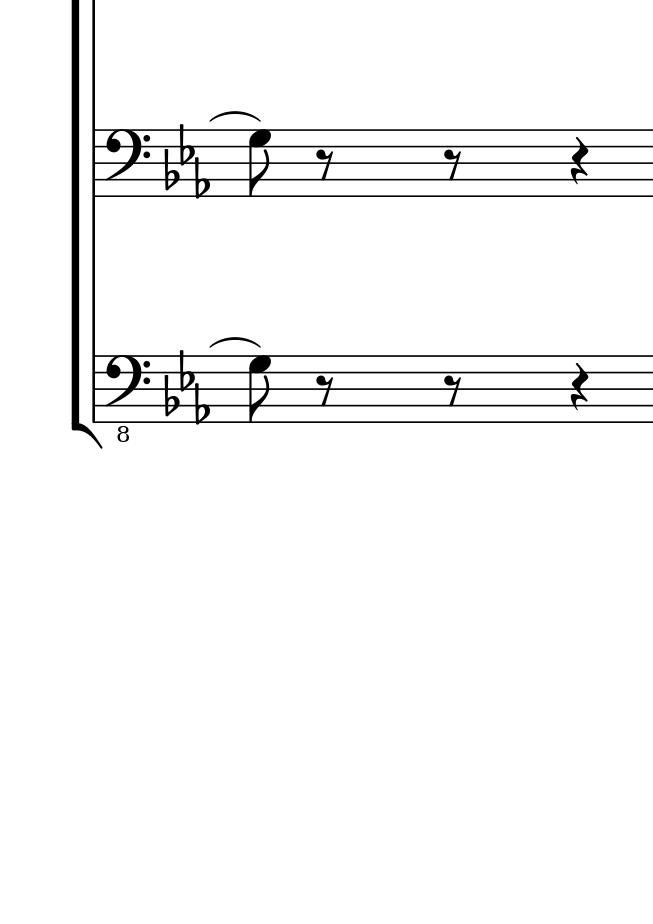8_7: (247, 355, 273, 423), (246, 127, 271, 197)
Fclef: (105, 124, 152, 201)
Lower_Fclef: (103, 353, 152, 443)
Rests4: (568, 361, 590, 412), (569, 137, 591, 184)
Rests8: (442, 146, 463, 181), (442, 373, 463, 408), (315, 147, 334, 179), (316, 374, 335, 406)
Single_barline: (87, 130, 103, 196), (88, 355, 103, 421)
Slur: (209, 335, 264, 351), (207, 108, 264, 123)
